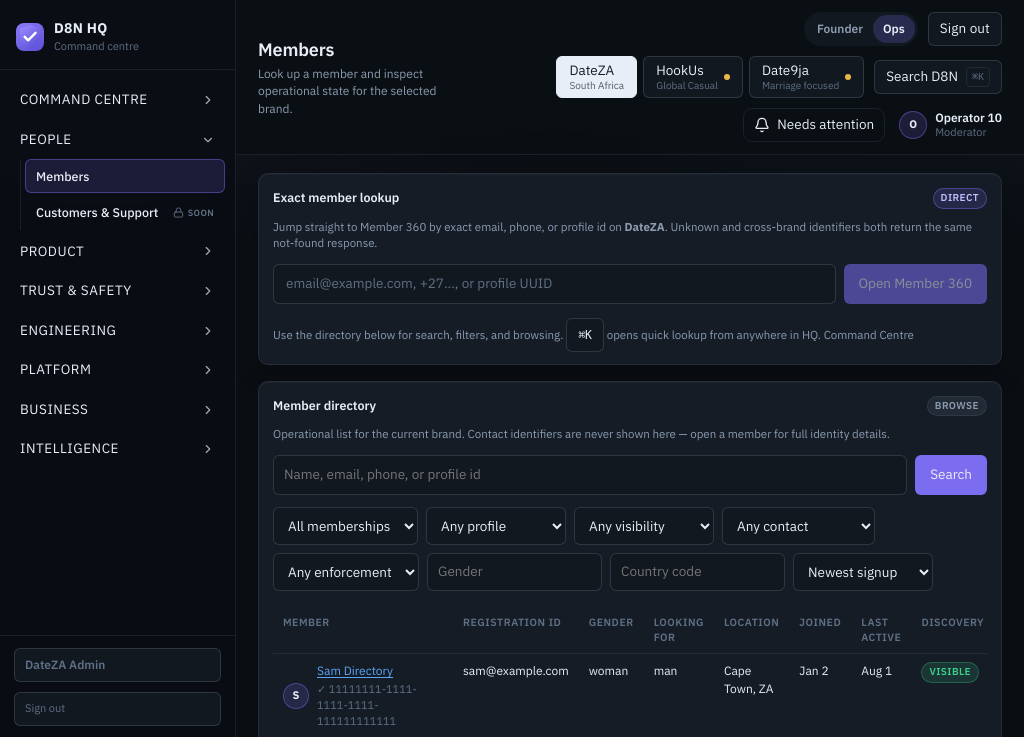
Scenario: D8N HQ Phase 1 integration › looks up a member and navigates to Member 360 via profile public id
Type "lebo@example.com" into the field named "exact member lookup" at (554, 284), box [273, 264, 836, 304]
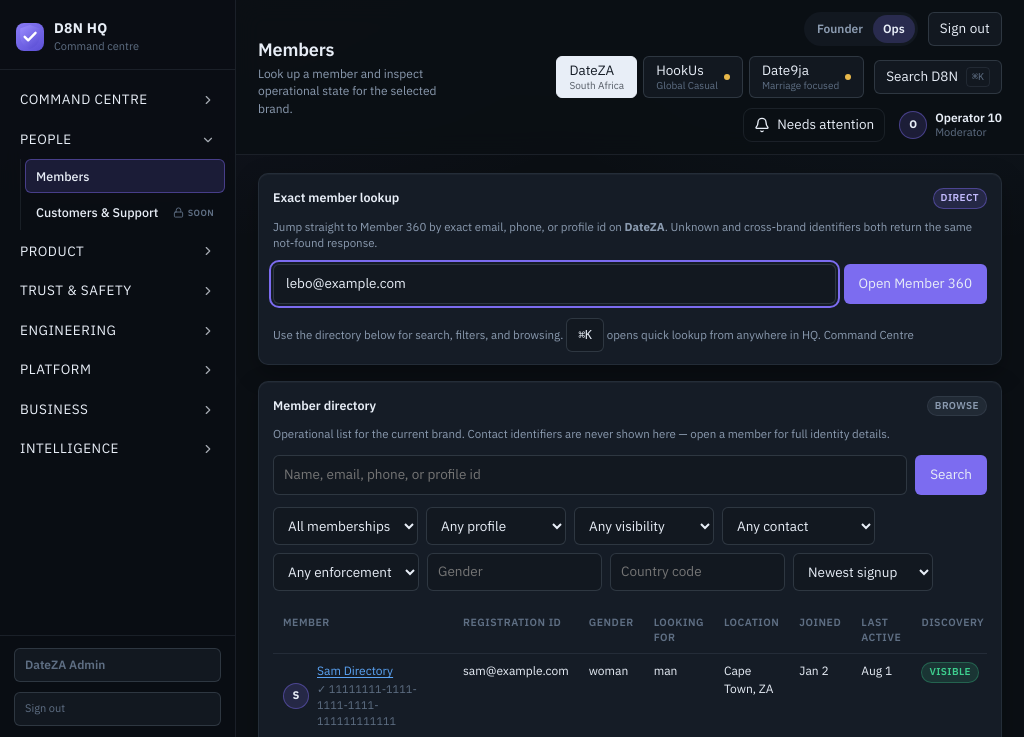
Click the button "Open Member 360" at (915, 284), box [844, 264, 987, 304]
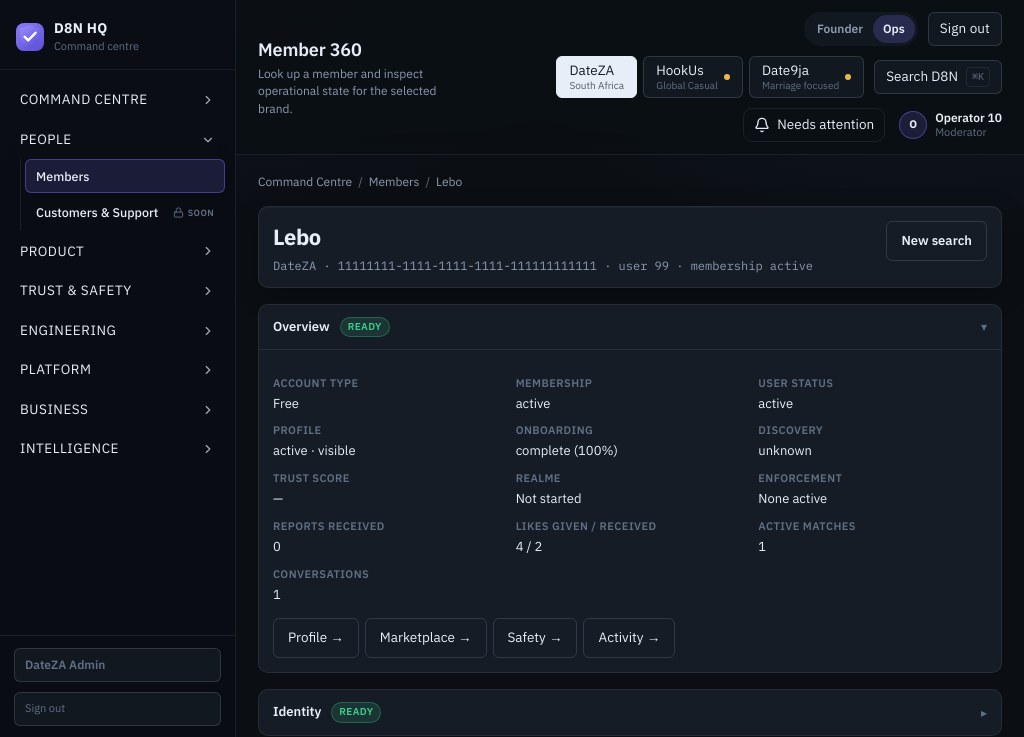
Expected: the heading "Lebo" is shown, [273, 222, 321, 251]
Expected: the text "11111111-1111-1111-1111-111111111111" is shown, [316, 258, 597, 273]
Expected: the text "Likes given / received" is shown, [516, 519, 657, 533]
